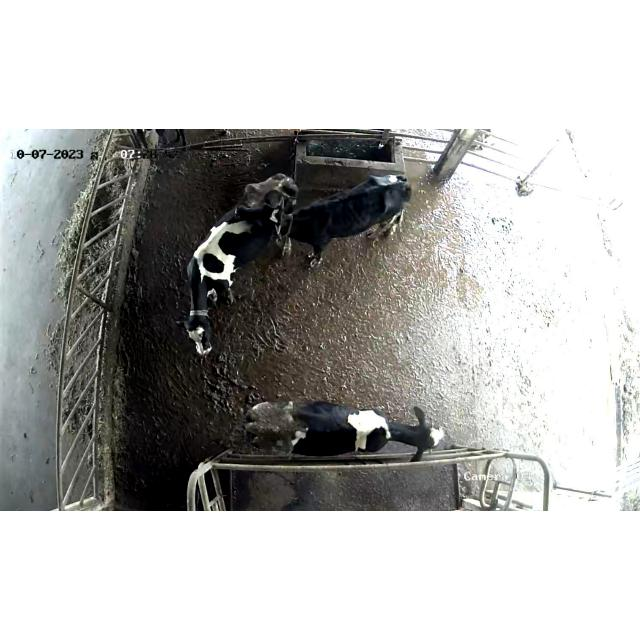propping: (218, 192, 320, 244)
